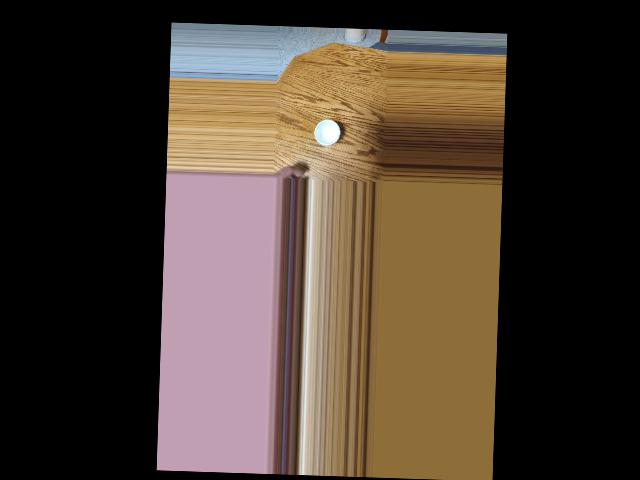cotage: (311, 118, 340, 148)
